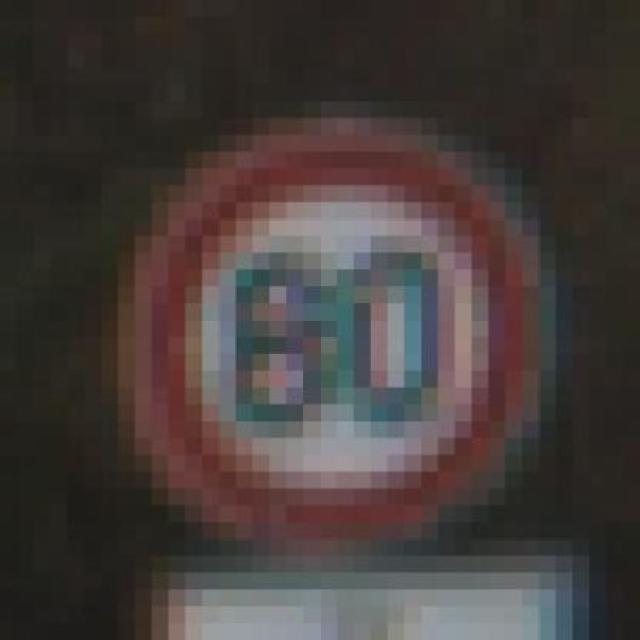forb_speed_over_80: (142, 136, 533, 553)
